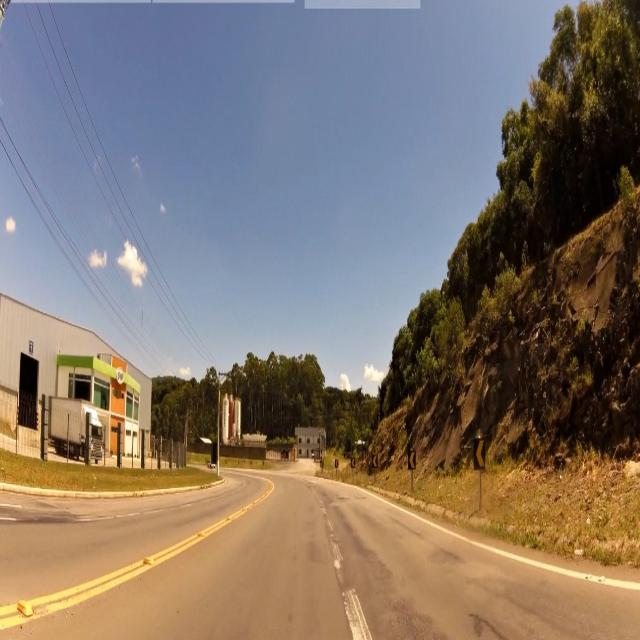Del: (474, 436, 488, 473), (409, 452, 417, 472)
